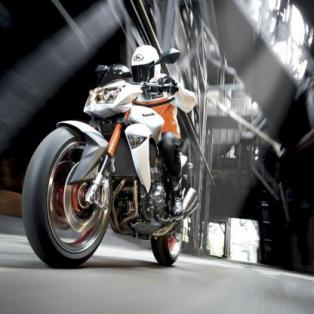Motocicleta: (16, 45, 198, 272)
